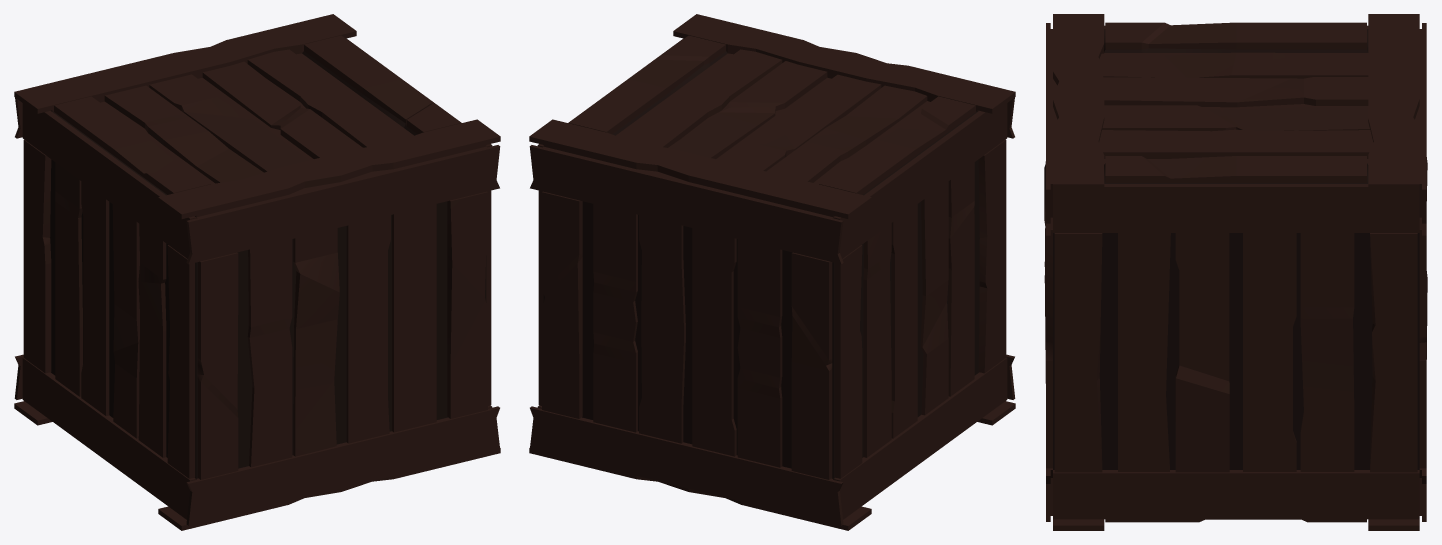
The model's file is Crate.obj.
The picture shows the model from 3 angles, left to right: view 1: azimuth 30°, elevation 25°; view 2: azimuth 150°, elevation 25°; view 3: azimuth 270°, elevation 25°; orthographic projection. The views are drawn at different scales.
Parts seen in each view (by area): view 1: Crate; view 2: Crate; view 3: Crate.
Boxes of the visible parts, x1=… form: Crate: x1=14, y1=14, x2=500, y2=530; Crate: x1=529, y1=14, x2=1015, y2=530; Crate: x1=1044, y1=14, x2=1427, y2=530.
Size of the model in its own units: 1.38 by 1.31 by 1.31.
